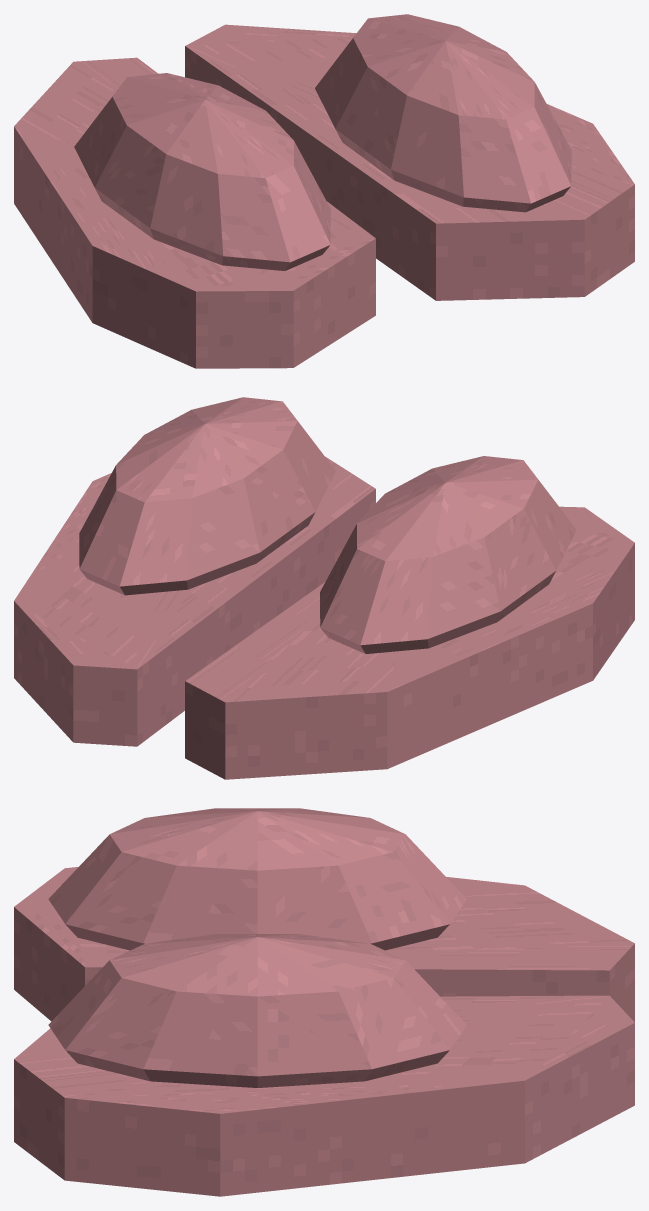
The model's file is lung.glb.
3 renders of one model, top to bottom at view 1: azimuth 30°, elevation 25°; view 2: azimuth 150°, elevation 25°; view 3: azimuth 270°, elevation 25°, orthographic. The views are drawn at different scales.
Parts seen in each view (by area): view 1: block_tapered lobe (×2), block_spongy tissue (×2); view 2: block_tapered lobe (×2), block_spongy tissue (×2); view 3: block_tapered lobe (×2), block_spongy tissue (×2).
Boxes of the visible parts, x1,y1,x2,y2 form: block_tapered lobe (×2): [14, 24, 634, 368]; block_spongy tissue (×2): [74, 14, 571, 270]; block_tapered lobe (×2): [14, 456, 634, 779]; block_spongy tissue (×2): [79, 397, 576, 653]; block_tapered lobe (×2): [14, 867, 634, 1196]; block_spongy tissue (×2): [48, 808, 466, 1087].
Size of the model in its own units: 0.0691 by 0.0236 by 0.0693.
1 material, 1 textured.
